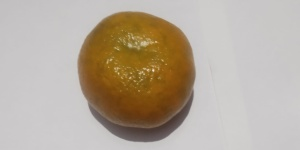BAD: (76, 6, 197, 138)
